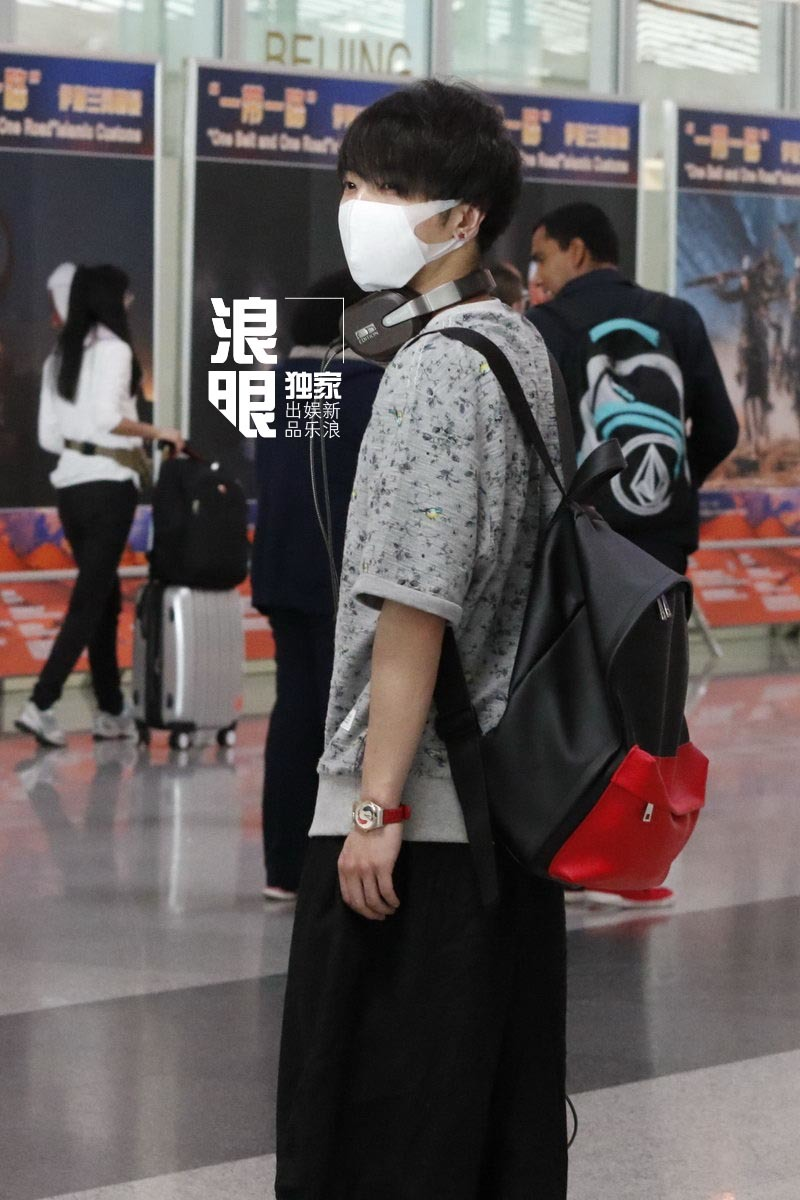face: (531, 225, 573, 301)
face_mask: (338, 143, 428, 293)
